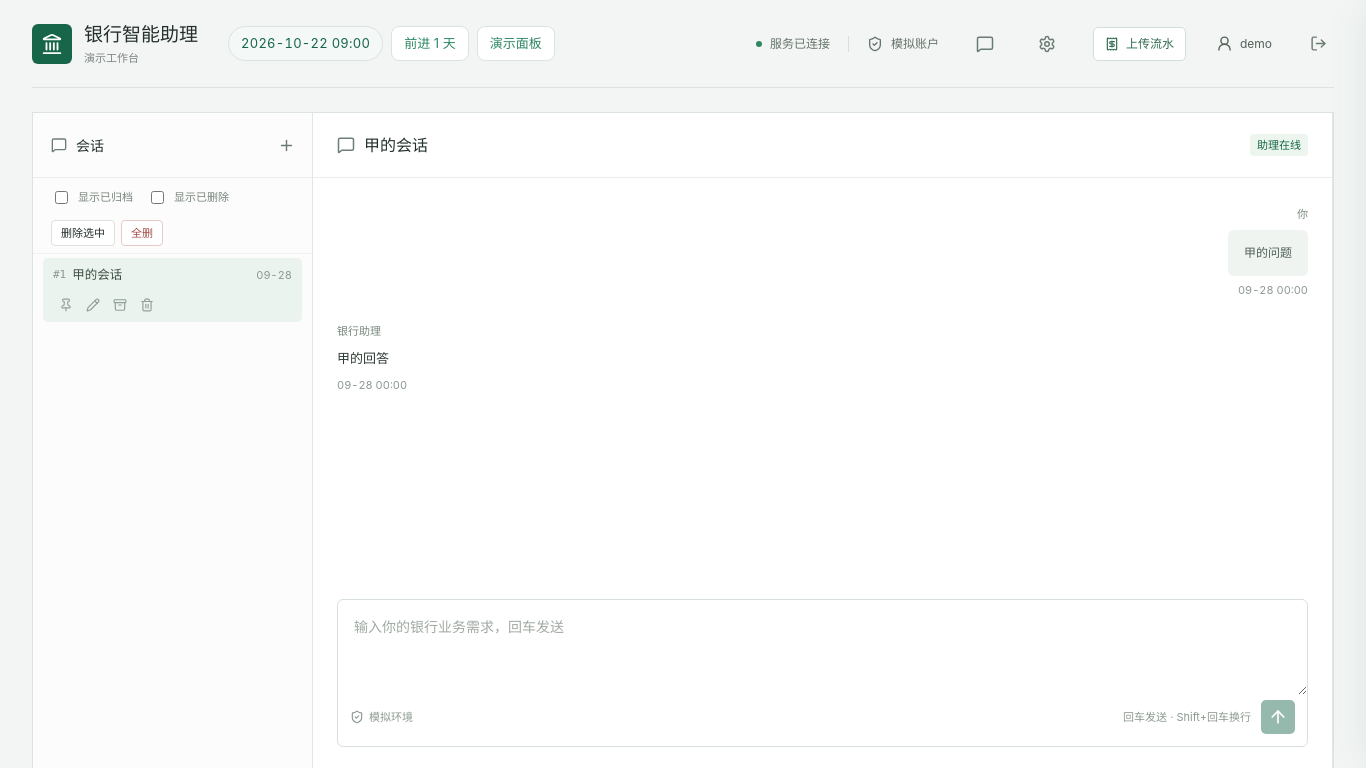
Test: the bill shell › still renders the report when the user asked to analyse before sending
Type "分析一下八月的流水，然后发送到我的邮箱" into the text box with placeholder "输入你的银行业务需求，回车发送" at (822, 648), box [338,600,1307,695]
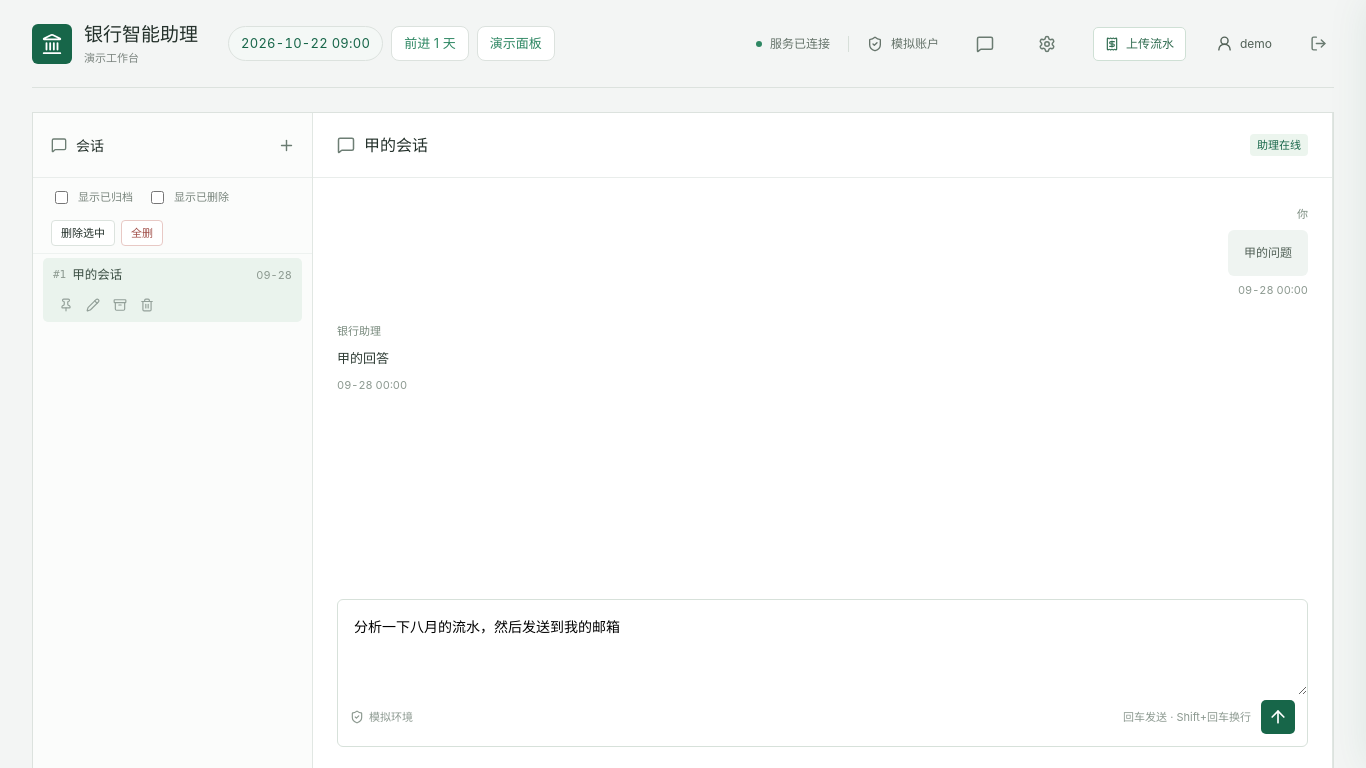
Submit the form with class "composer", box [337,599,1308,747]
(page scrolled)
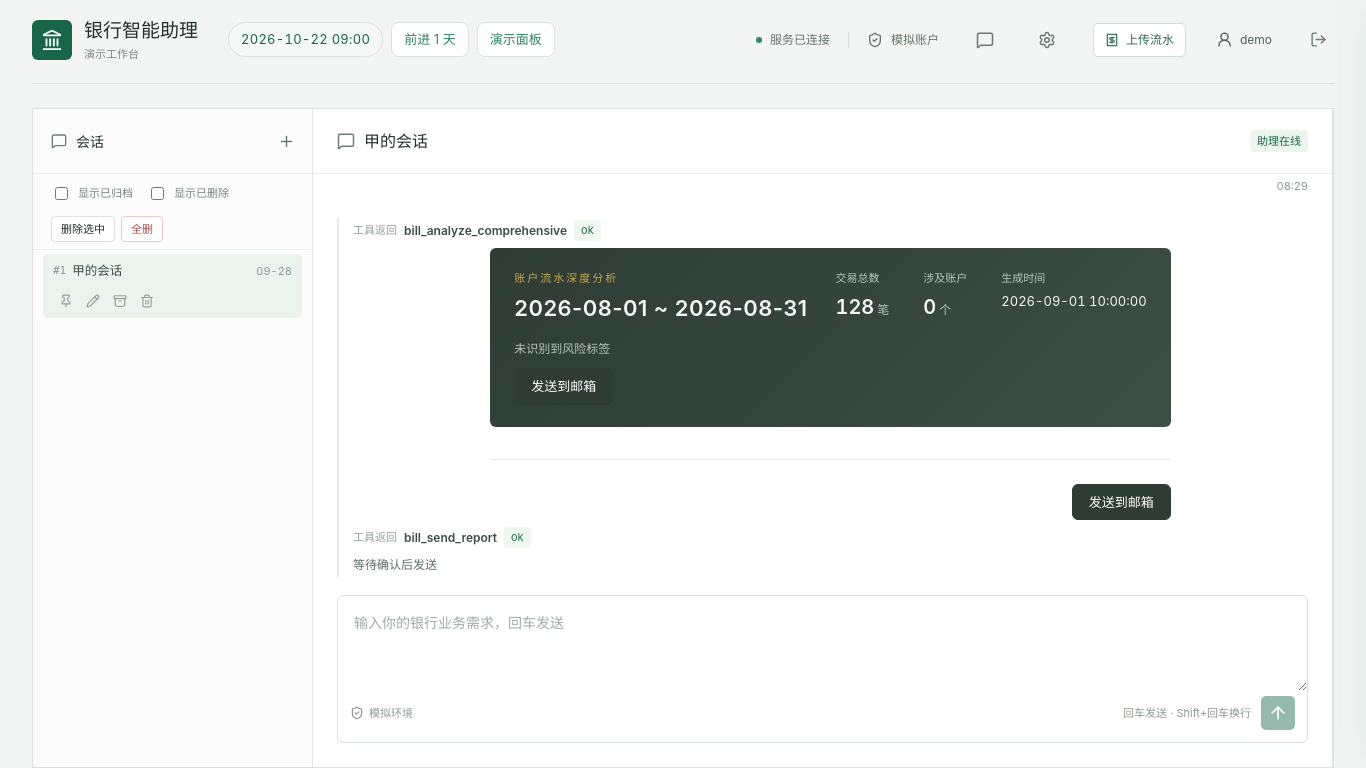
Now the element with class "report" is shown, box [490,248,1171,520]
